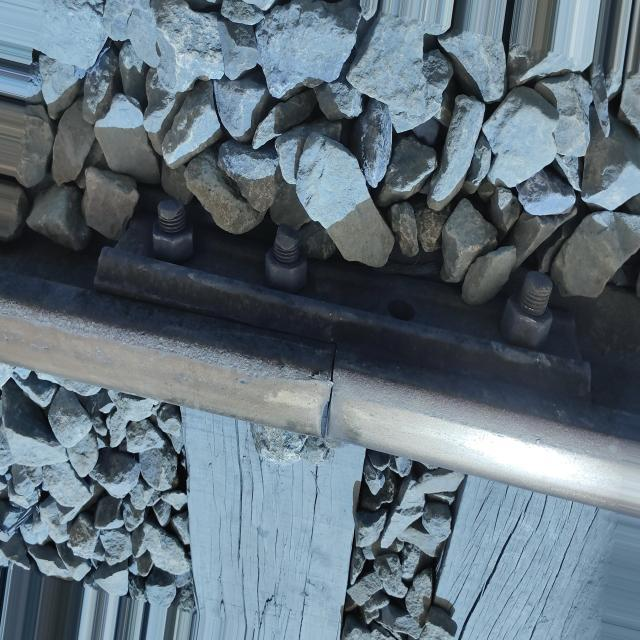Defective Joint: (89, 181, 601, 407)
